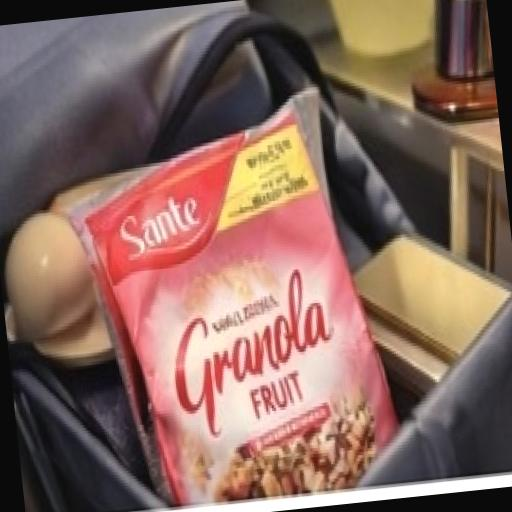granola: (39, 88, 446, 512)
